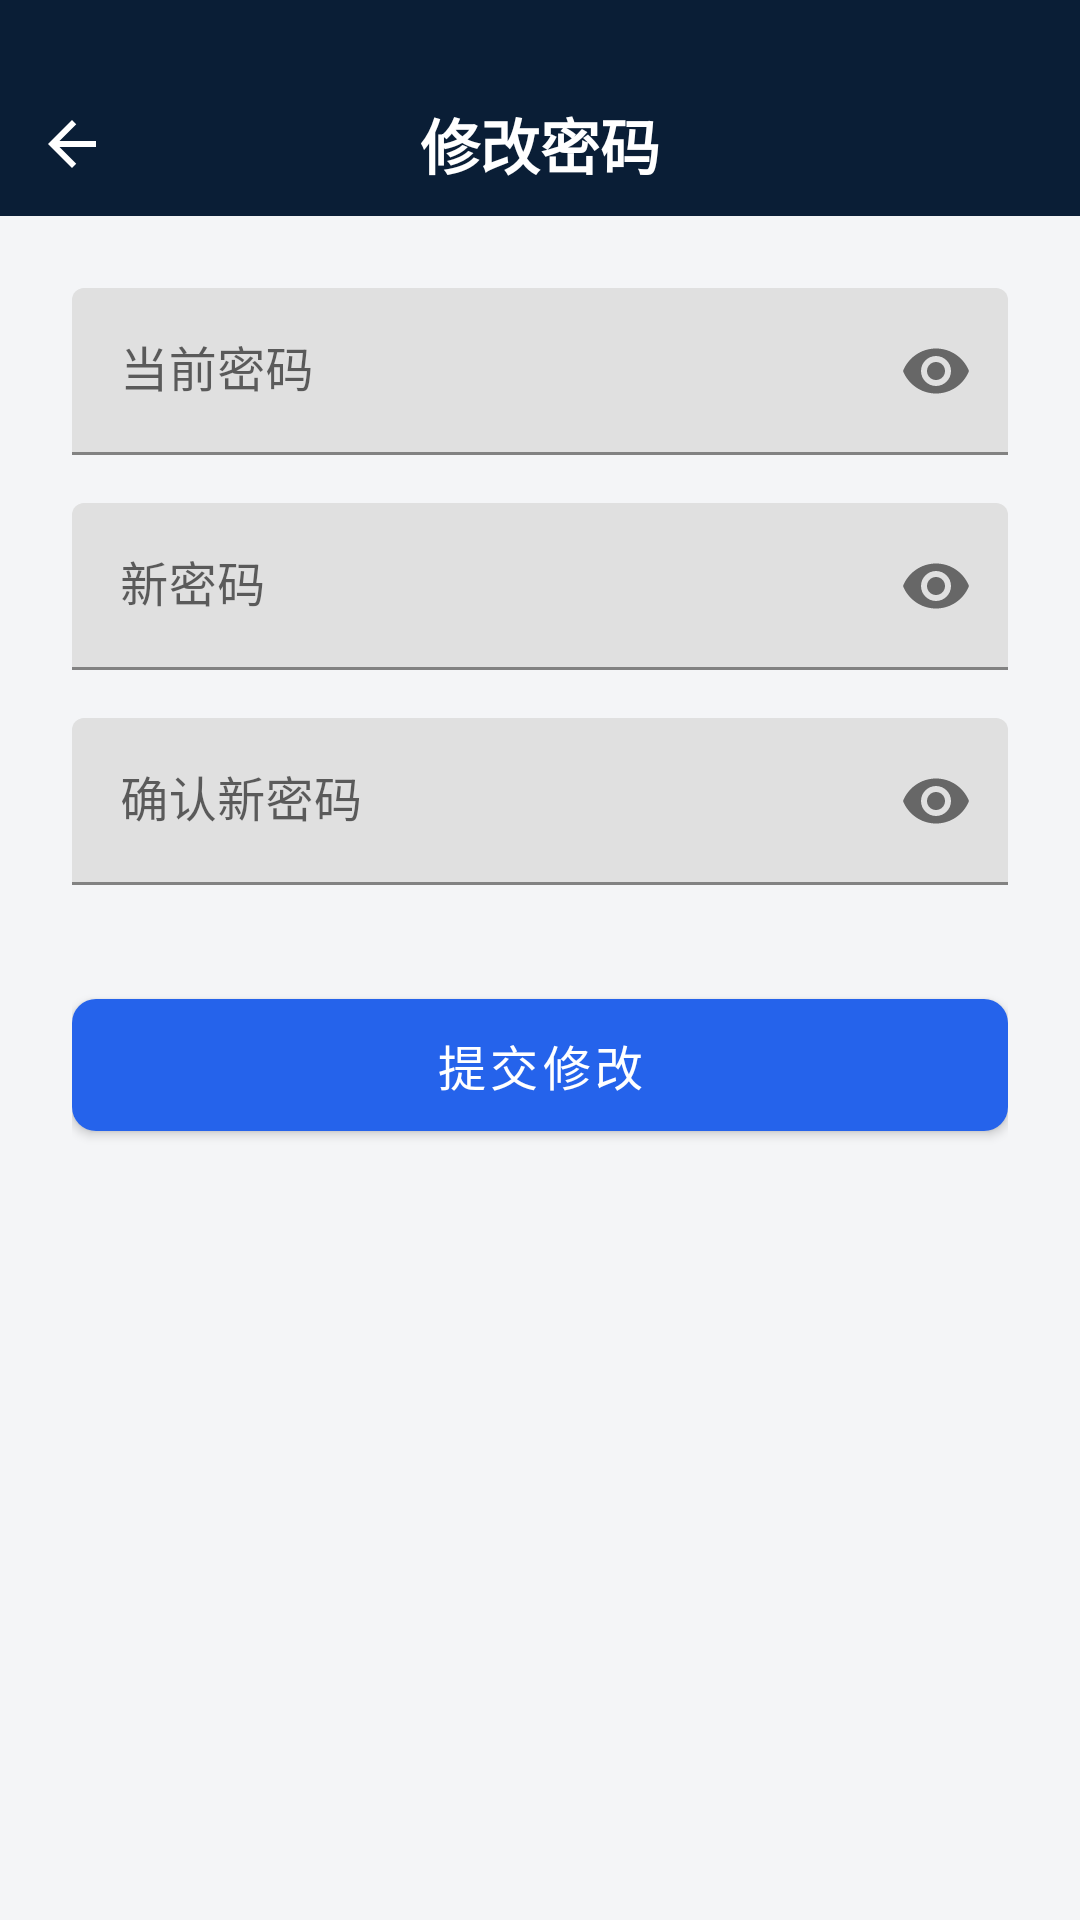

Screen size 1080px×1920px. Icon name, then its center in pixels as (x,y):
back: (72,144)
